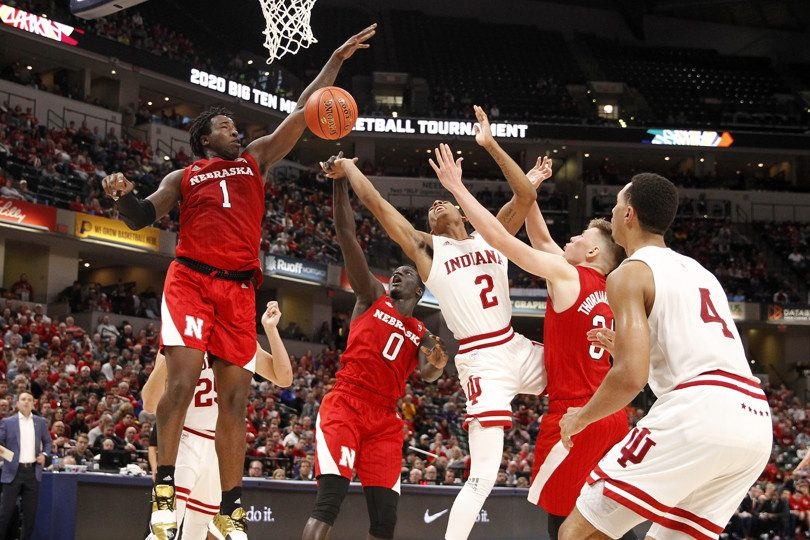ball: (296, 79, 363, 140)
block: (96, 12, 373, 540)
stand: (596, 161, 781, 537)
